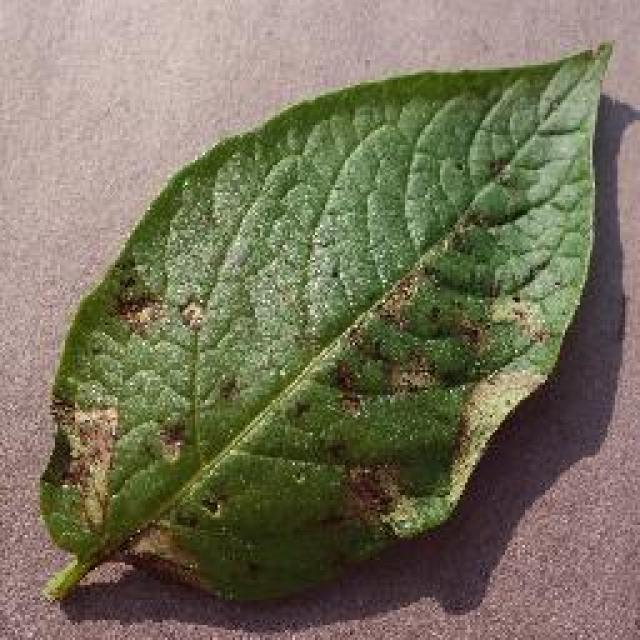late_blight: (32, 38, 618, 608)
